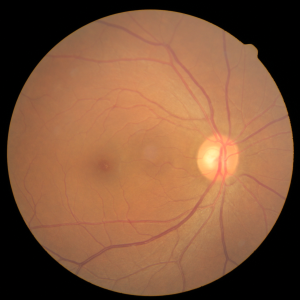glaucoma: (92, 104, 262, 222)
